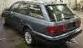back_view: (45, 22, 82, 41)
backlight: (48, 24, 65, 35)
side_glass: (11, 2, 43, 18)
